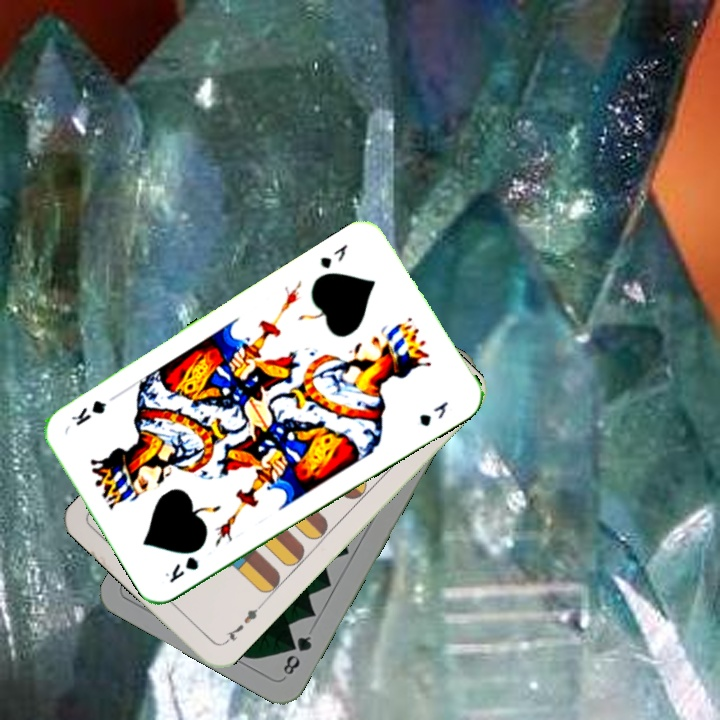E7: (220, 600, 265, 647)
G8: (279, 631, 315, 678)
GK: (161, 552, 202, 586), (316, 240, 351, 272)
